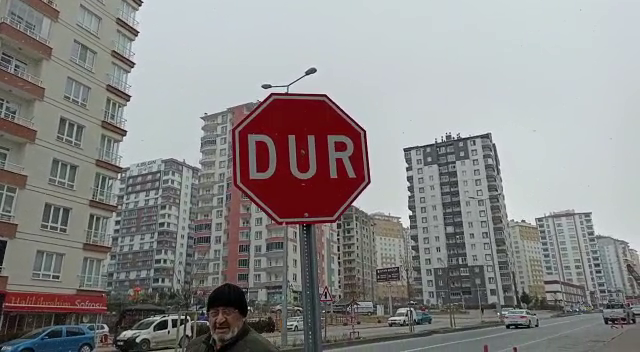stop: (229, 91, 374, 226)
